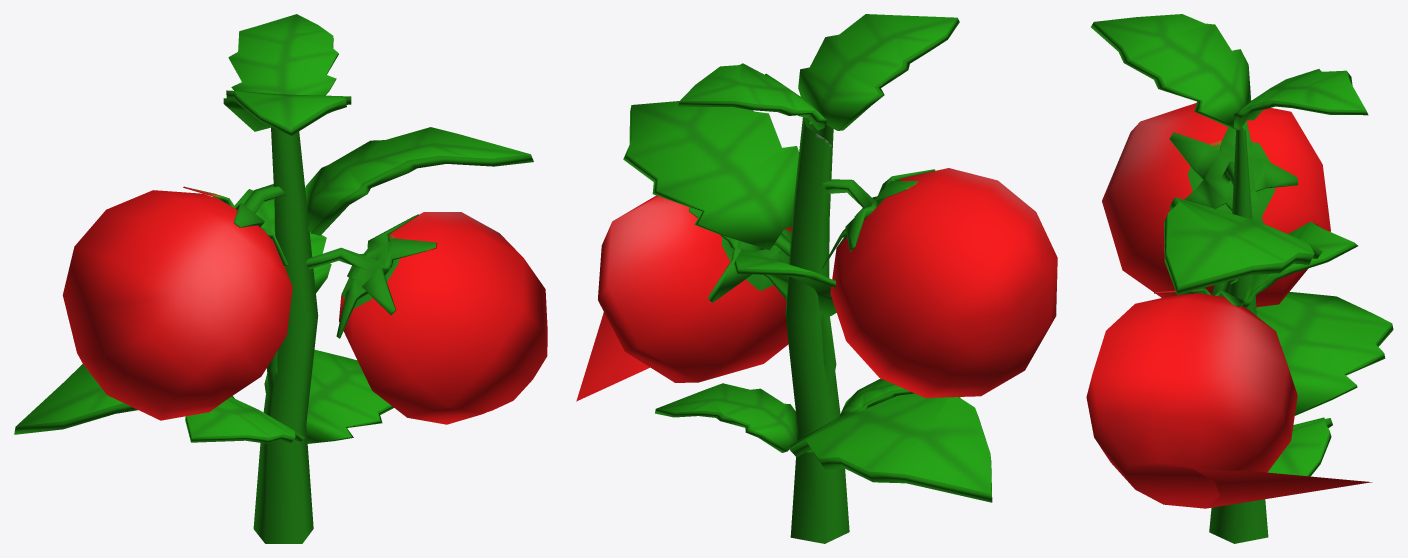
File: Tomato_all_form.FBX
3 renders of one model, left to right at view 1: azimuth 30°, elevation 25°; view 2: azimuth 150°, elevation 25°; view 3: azimuth 270°, elevation 25°, orthographic.
Visible parts, largest first — view 1: Night_tomato, Child_tomato; view 2: Night_tomato, Child_tomato; view 3: Night_tomato, Child_tomato.
Boxes of the visible parts, bbox=[...] form: Night_tomato: bbox=[14, 14, 547, 543]; Child_tomato: bbox=[185, 189, 393, 443]; Night_tomato: bbox=[576, 14, 1057, 543]; Child_tomato: bbox=[655, 249, 914, 452]; Night_tomato: bbox=[1086, 14, 1393, 543]; Child_tomato: bbox=[1241, 221, 1357, 476].
Bounding box in the file's own units: 1.87 × 1.9 × 1.1.
